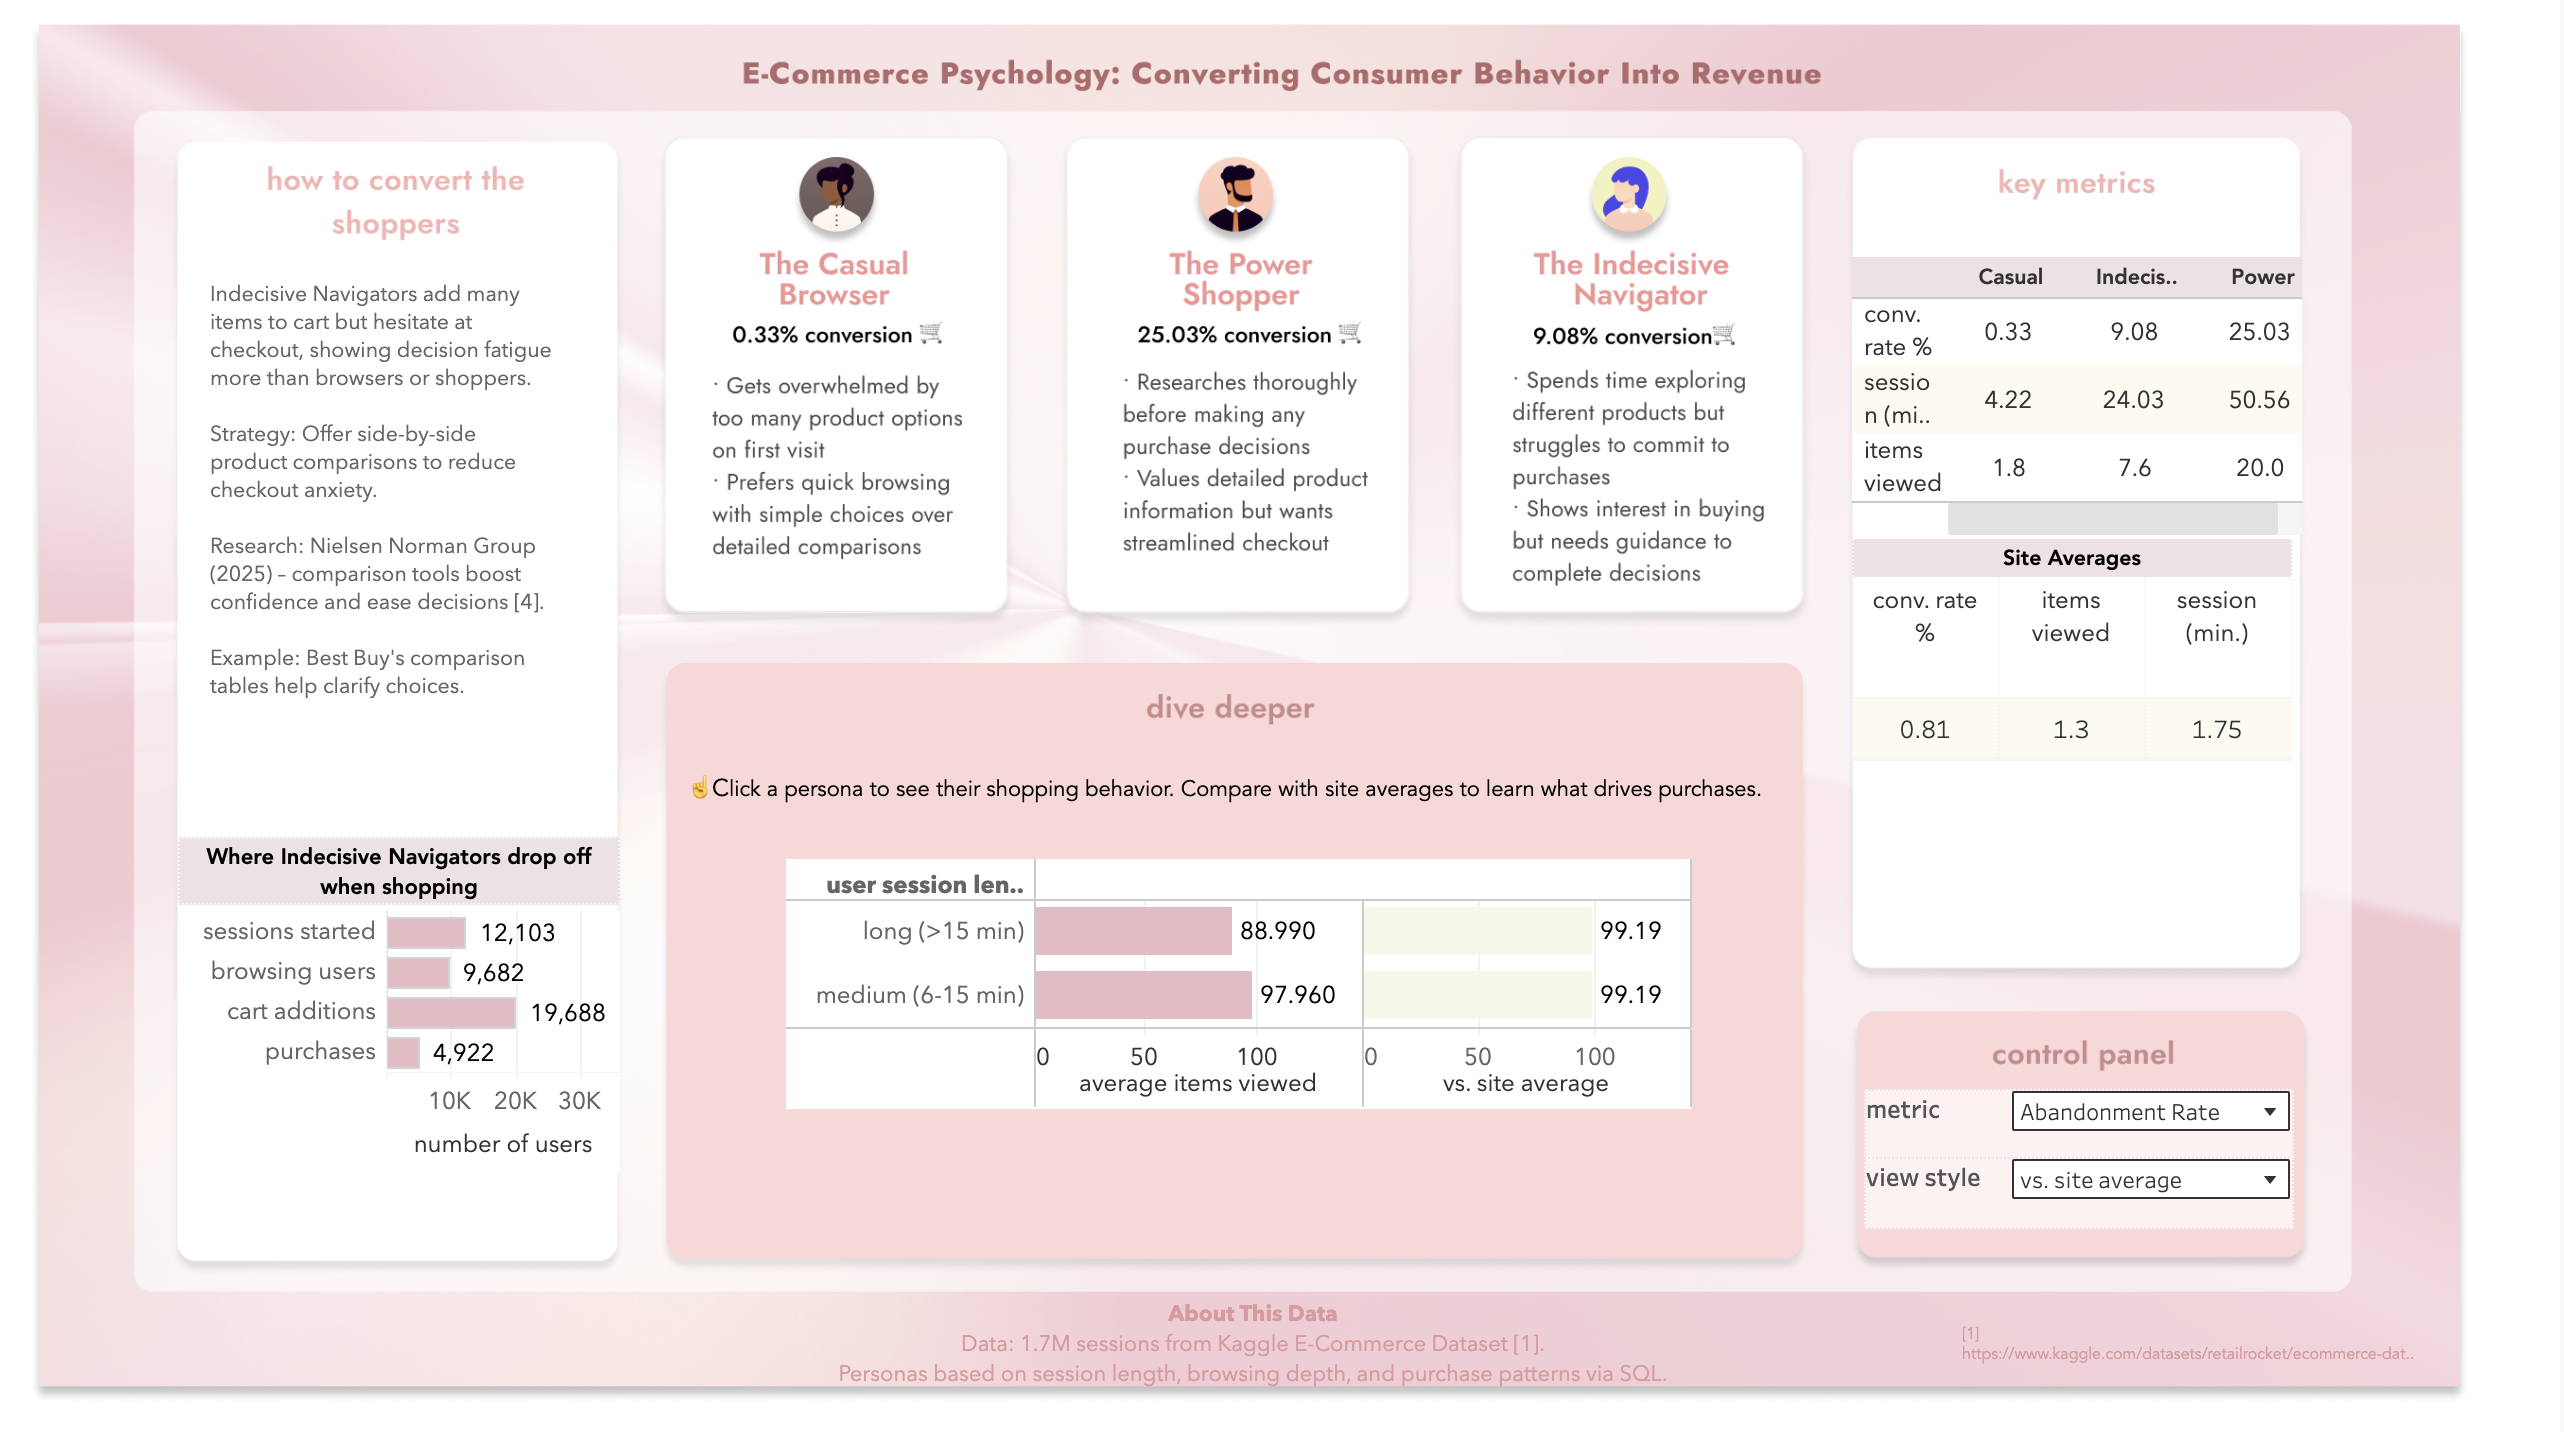

The dashboard page shown, as its layout file describes it:
{"tool":"tableau","page":{"name":"new dash","canvas":[1280,720],"ordinal":0},"visuals":[{"type":"image","param":"Image/dashboard background (4).png","box":[8,8,1264,704]},{"type":"worksheet","title":"Button-PS","mark":"Square","box":[542,83,176,214]},{"type":"worksheet","title":"Button-IN","mark":"Square","box":[741,84,155,214]},{"type":"worksheet","title":"Button-CB","mark":"Square","box":[331,87,177,214]},{"type":"worksheet","title":"Persona Comparison Table (2)","mark":"Automatic","cols":["persona_type"],"box":[926,132,225,146]},{"type":"worksheet","title":"Psychology Text Sheet ","mark":"Automatic","box":[101,143,229,250]},{"type":"worksheet","title":"Site Averages","mark":"Automatic","cols":["Calculation_2936276645550850079"],"box":[925,272,238,159]},{"type":"text","box":[344,366,554,64]},{"type":"worksheet","title":"Where Users Drop Off","mark":"Bar","box":[89,422,221,210]},{"type":"worksheet","title":"CB Dynamic Chart USE (2)","mark":"Bar","rows":["session_length_bucket"],"cols":["Calculation_2936276646071398464","Calculation_2936276646078369865"],"box":[393,433,453,209]},{"type":"parameter","param":"[Parameters].[Parameter 6]","box":[932,548,215,35]},{"type":"parameter","param":"[Parameters].[Parameter 2]","box":[932,582,215,36]},{"type":"text","box":[369,634,515,81]},{"type":"worksheet","title":"Sheet 34","mark":"Automatic","box":[977,648,286,64]}]}

Visuals, with their boxes in screenshot pixels (x1, y1, x2, y2), scaled from the page's 1280x720 canvas onto the 2564x1432 screenshot:
image: l=16, t=16, r=2548, b=1416
"Button-PS" worksheet (Square marks): l=1086, t=165, r=1438, b=591
"Button-IN" worksheet (Square marks): l=1484, t=167, r=1795, b=593
"Button-CB" worksheet (Square marks): l=663, t=173, r=1018, b=599
"Persona Comparison Table (2)" worksheet: l=1855, t=263, r=2306, b=553
"Psychology Text Sheet " worksheet: l=202, t=284, r=661, b=782
"Site Averages" worksheet: l=1853, t=541, r=2330, b=857
text: l=689, t=728, r=1799, b=855
"Where Users Drop Off" worksheet (Bar marks): l=178, t=839, r=621, b=1257
"CB Dynamic Chart USE (2)" worksheet (Bar marks): l=787, t=861, r=1695, b=1277
parameter: l=1867, t=1090, r=2298, b=1160
parameter: l=1867, t=1158, r=2298, b=1229
text: l=739, t=1261, r=1771, b=1422
"Sheet 34" worksheet: l=1957, t=1289, r=2530, b=1416
